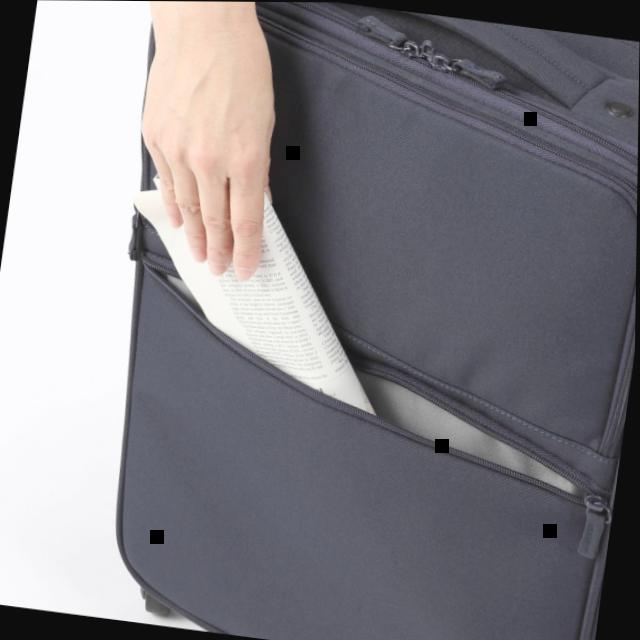luggage: (59, 0, 640, 640)
